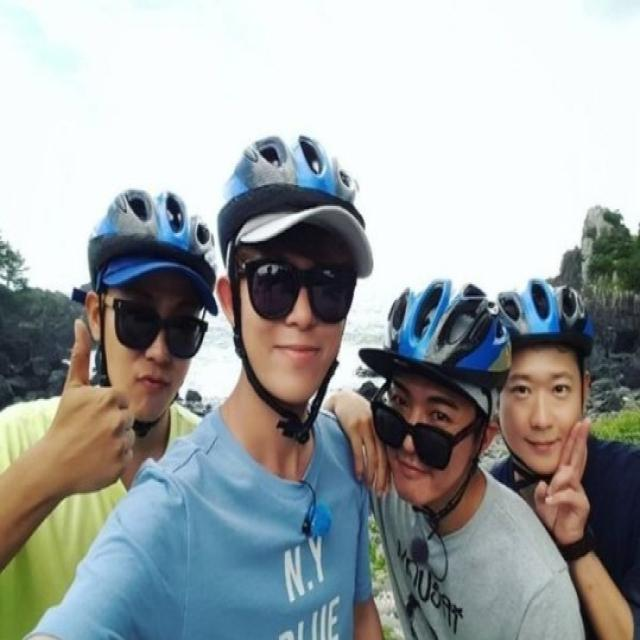Helmet: (218, 130, 372, 402), (89, 180, 218, 426), (385, 273, 508, 505), (504, 276, 596, 473)
